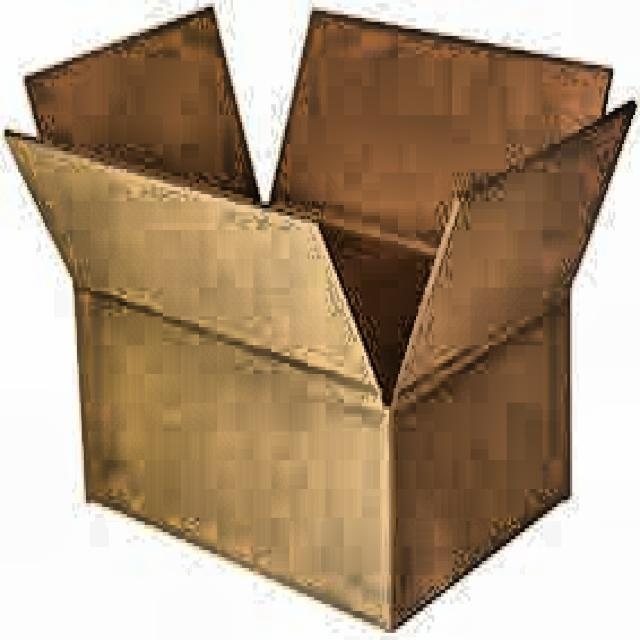cardboard: (2, 0, 636, 633)
